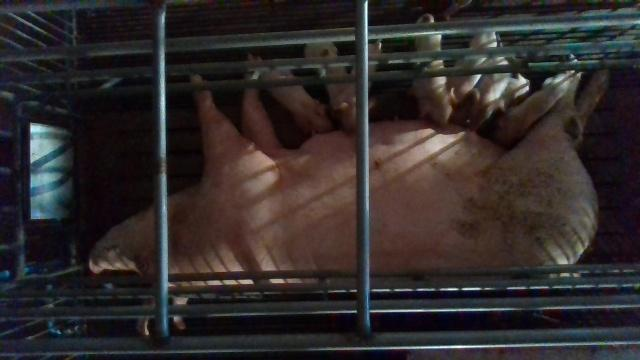piglet: (251, 55, 334, 135), (491, 72, 571, 143), (412, 12, 459, 125), (304, 40, 358, 132), (452, 30, 498, 105), (467, 56, 512, 131)
sow-sleep-lactate: (87, 72, 610, 335)
